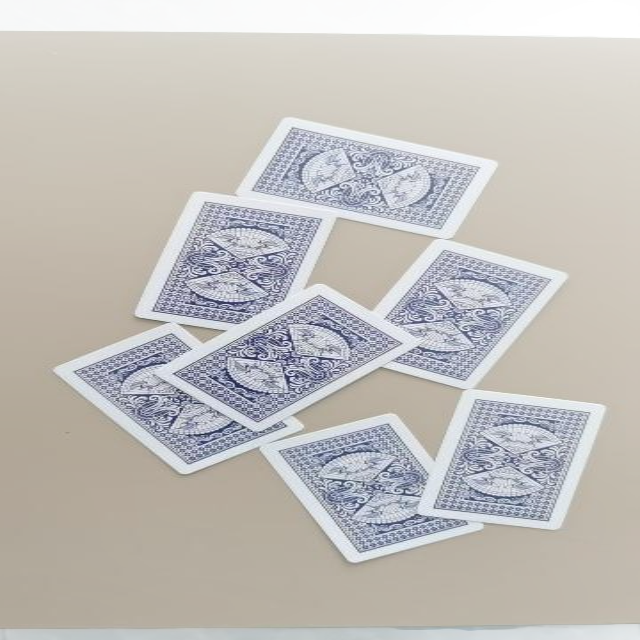card: (158, 285, 420, 430), (56, 324, 302, 474), (260, 414, 482, 562), (236, 118, 498, 239), (373, 239, 567, 389), (136, 191, 336, 329), (418, 390, 604, 529)
